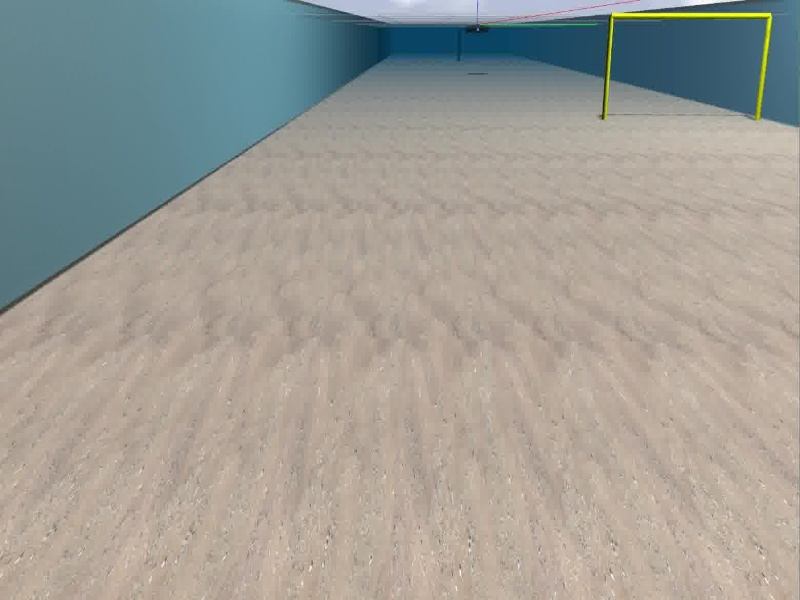gate: (602, 10, 772, 122)
